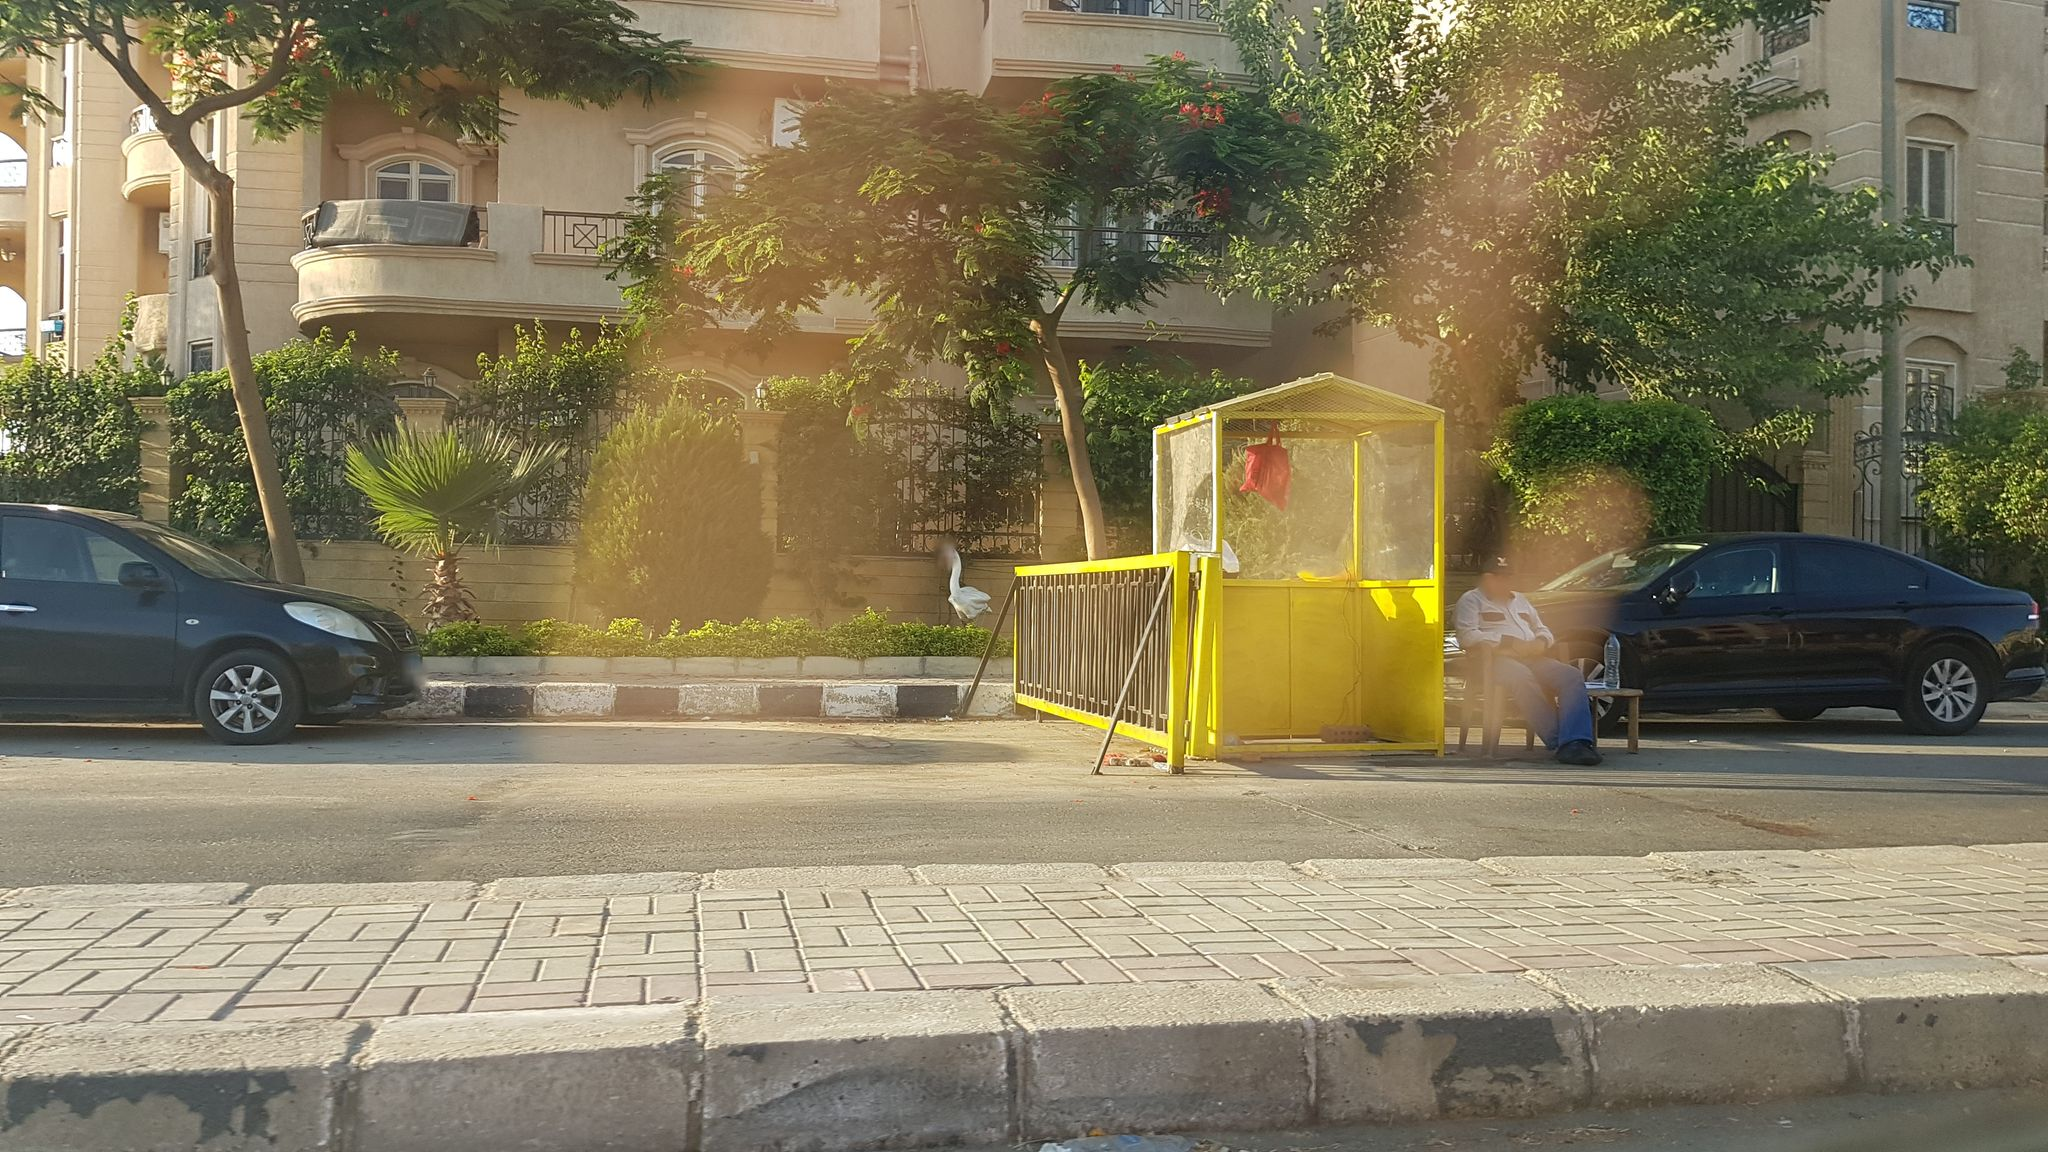car: (1438, 535, 2048, 726), (0, 497, 435, 736)
